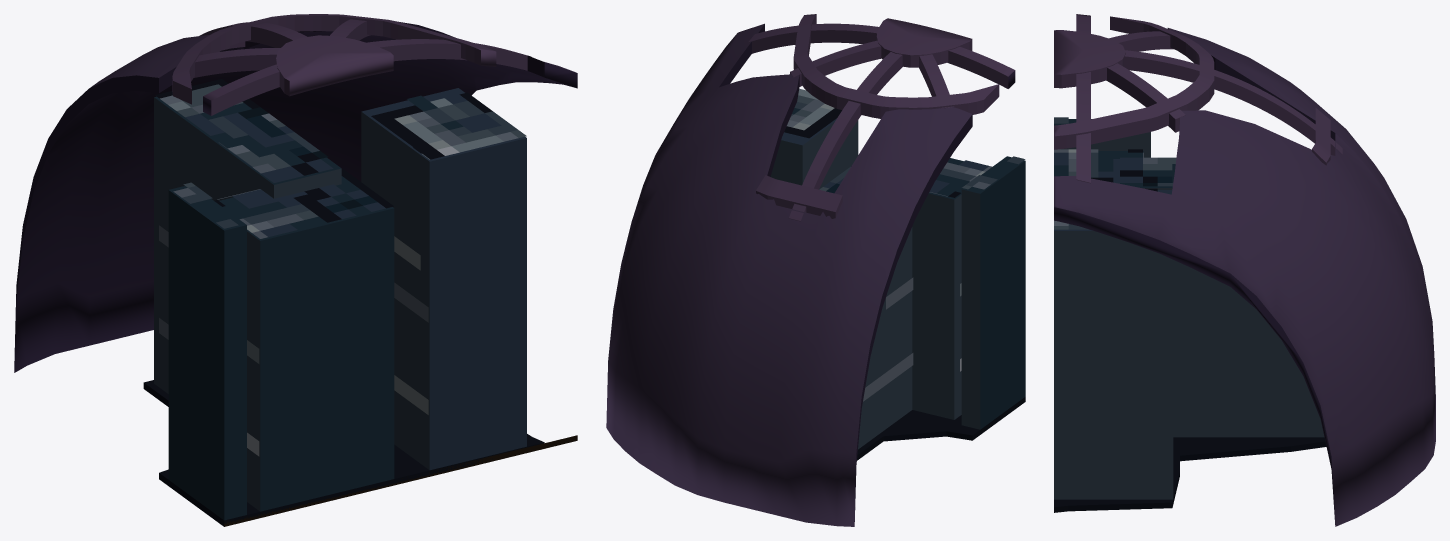
Rendered from newshr-7.glb.
The picture shows the model from 3 angles, left to right: view 1: azimuth 30°, elevation 25°; view 2: azimuth 150°, elevation 25°; view 3: azimuth 270°, elevation 25°; orthographic projection. The views are drawn at different scales.
Visible parts, largest first — view 1: newshr-7; view 2: newshr-7; view 3: newshr-7.
Boxes of the visible parts, left/top/right/bottom form: newshr-7: left=14, top=14, right=577, bottom=526; newshr-7: left=606, top=14, right=1025, bottom=526; newshr-7: left=1054, top=14, right=1435, bottom=526.
Size of the model in its own units: 2 by 2.34 by 2.15.
